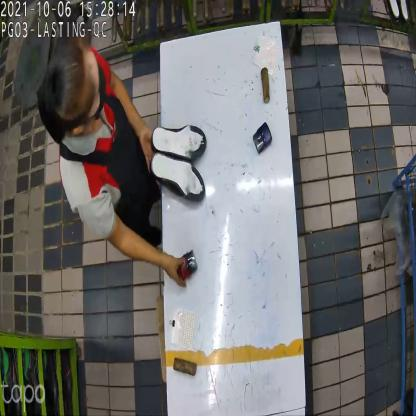shoes: (149, 124, 208, 202)
stamp: (180, 247, 199, 284), (254, 120, 272, 154)
